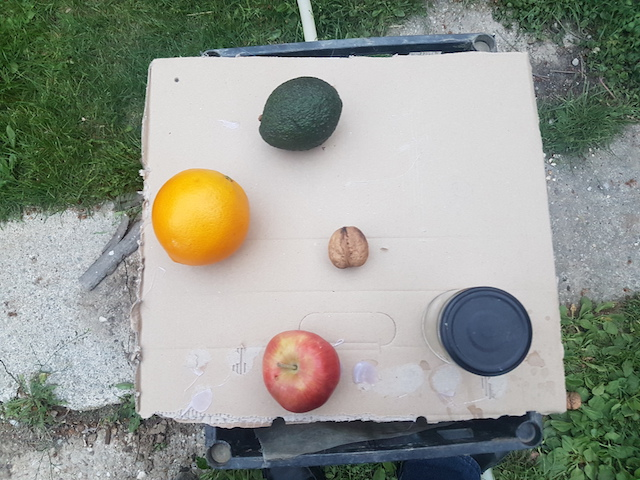apple: (259, 328, 344, 417)
avocado: (255, 75, 349, 151)
nut: (328, 226, 371, 271)
orange: (150, 168, 251, 269)
recipient: (438, 284, 532, 378)
